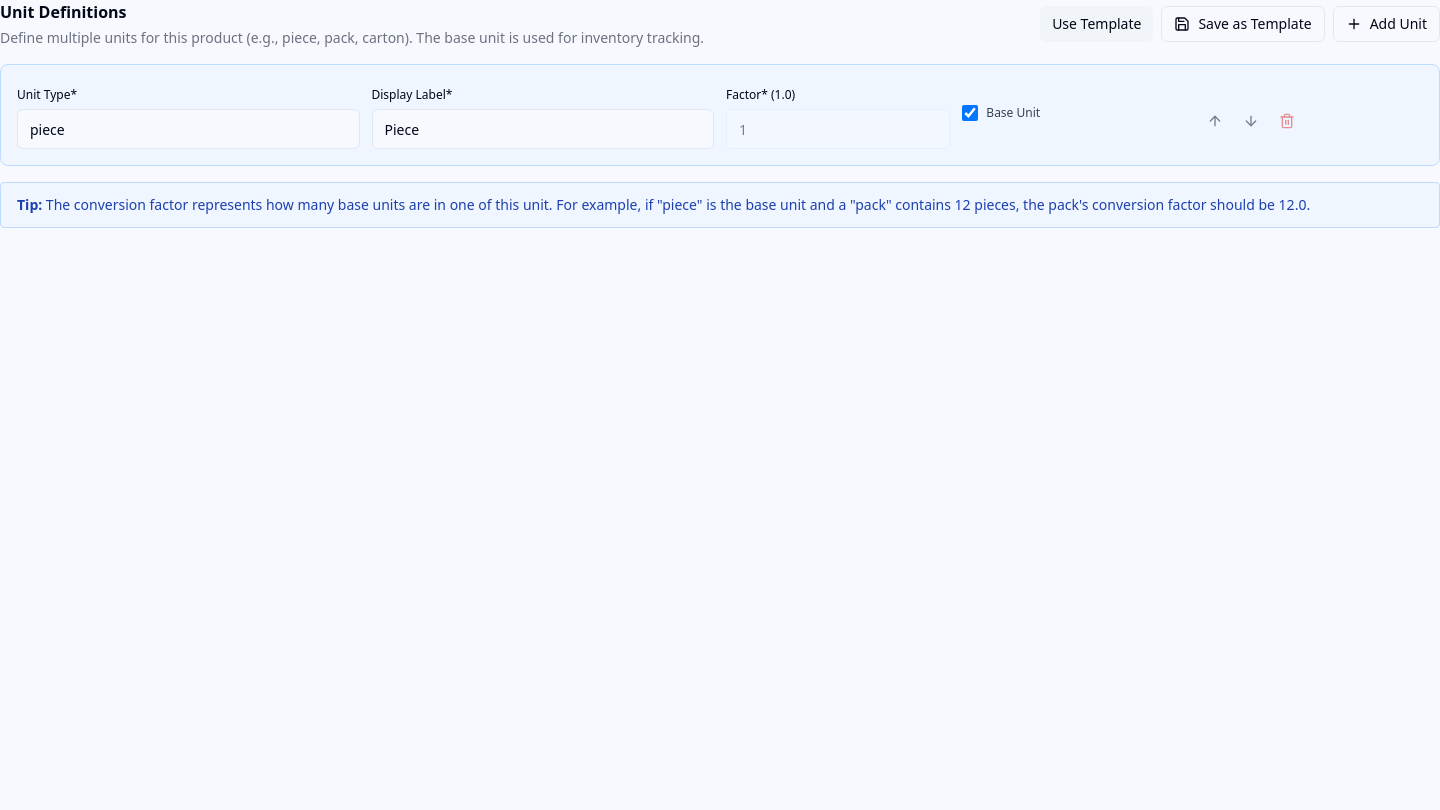
Test: UnitDefinitionManager › Save Template Functionality › should open save dialog when "Save as Template" is clicked
The width and height of the screenshot is (1440, 810).
Click the button "Save as Template".
click(1243, 24)  # box [1161,6,1325,42]
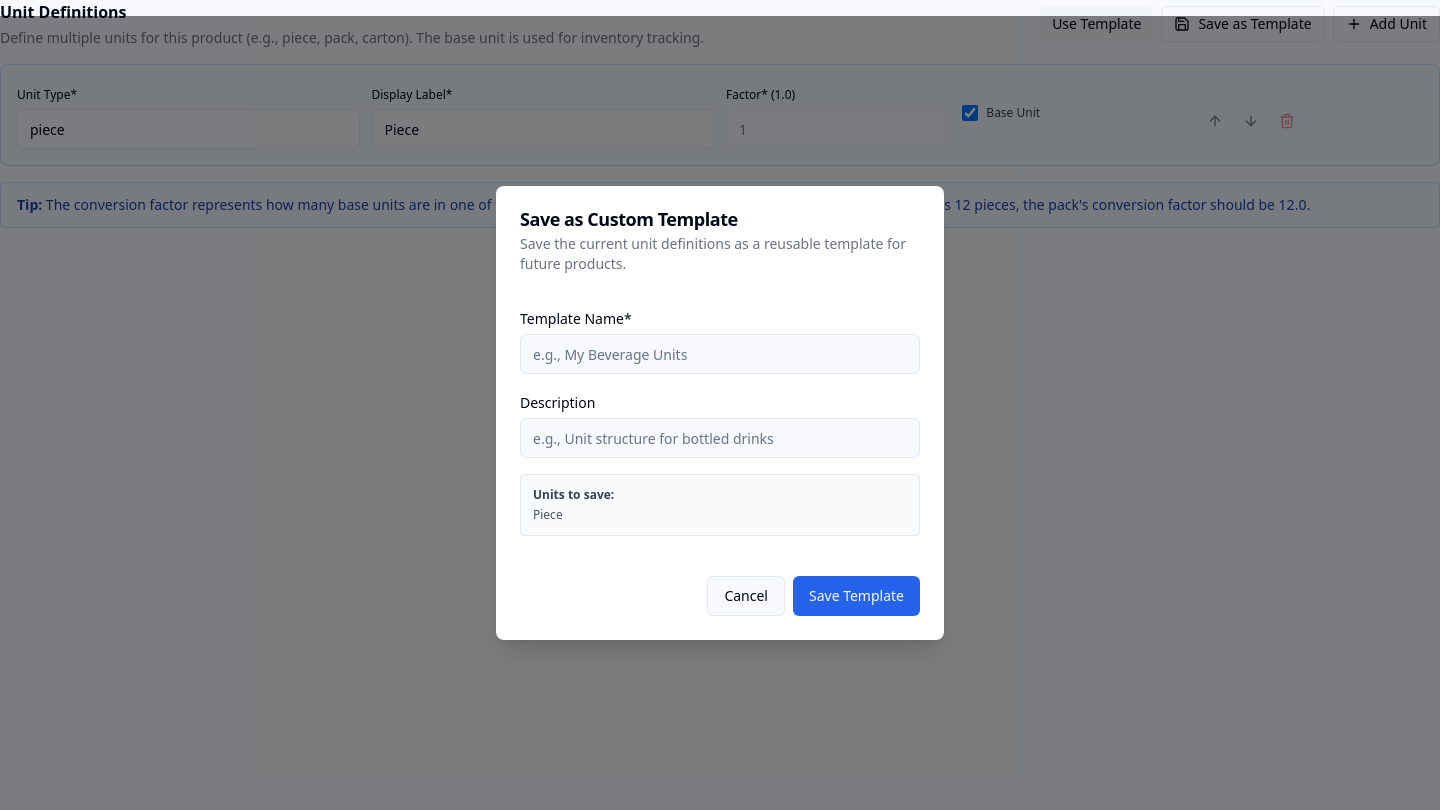
Now the heading "Save as Custom Template" is shown, box [520,207,738,231]
Now the field labelled "Template Name*" is shown, box [520,334,920,374]
Now the field labelled "Description" is shown, box [520,418,920,458]
